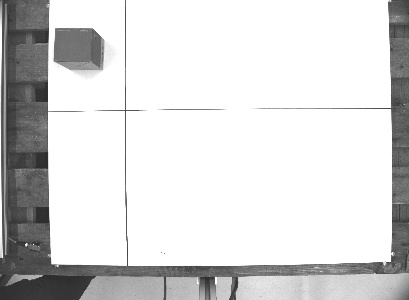b7: (51, 24, 106, 73)
